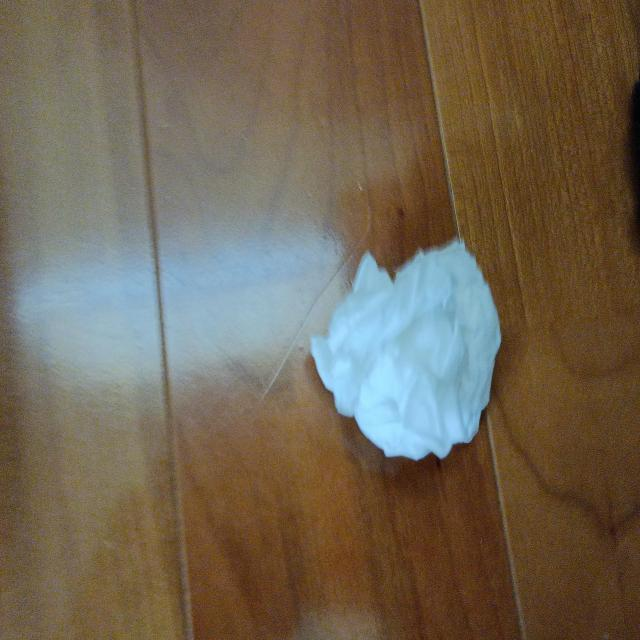Paper: (327, 244, 513, 453)
